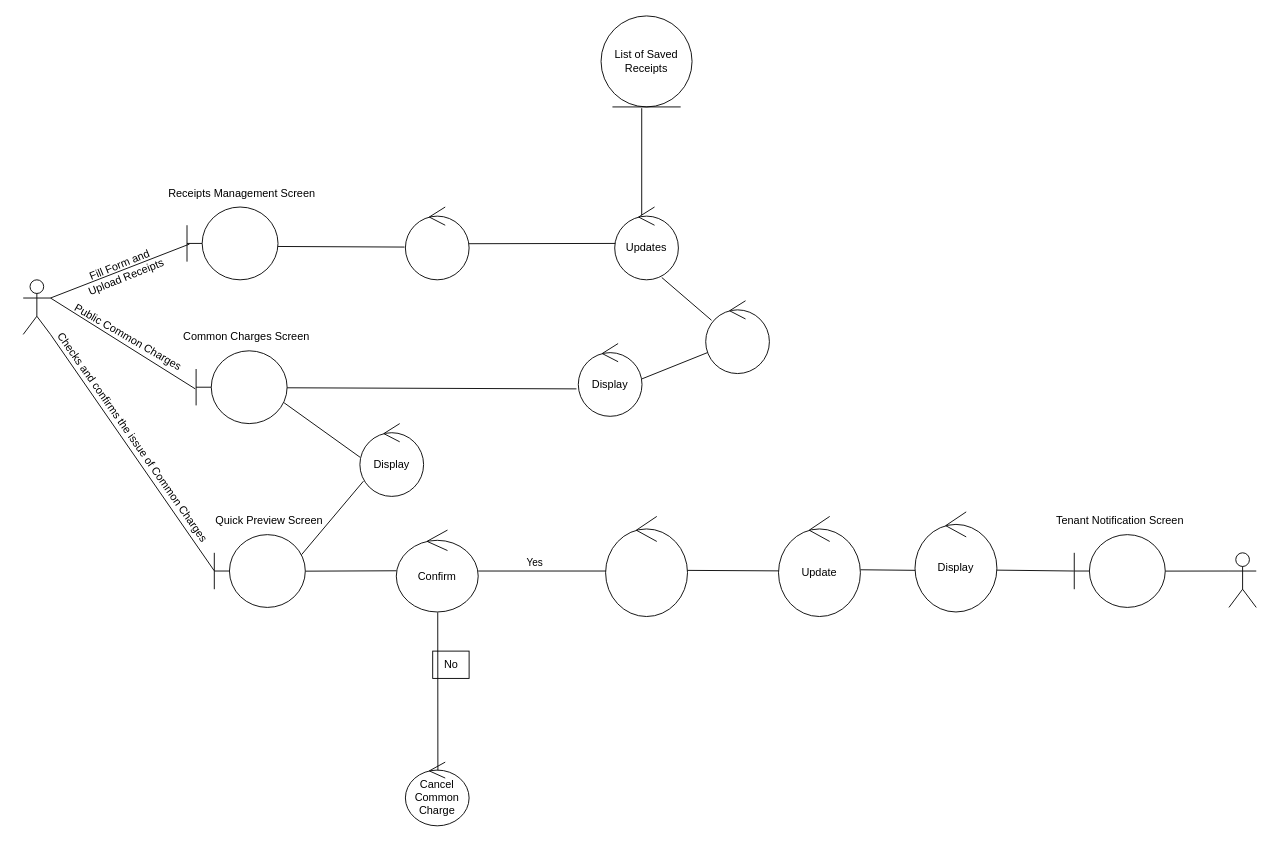
Image size: 1275x842. Some labels were removed from this diagram. Here are the shapes that lost their labels. From the top down, the centre of each, then its label:
At point (436, 243): "Check Data".
At point (36, 306): "Manager".
At point (737, 337): "Calculate Amount".
At point (646, 566): "Send Notification".
At point (1242, 579): "Tenant".
